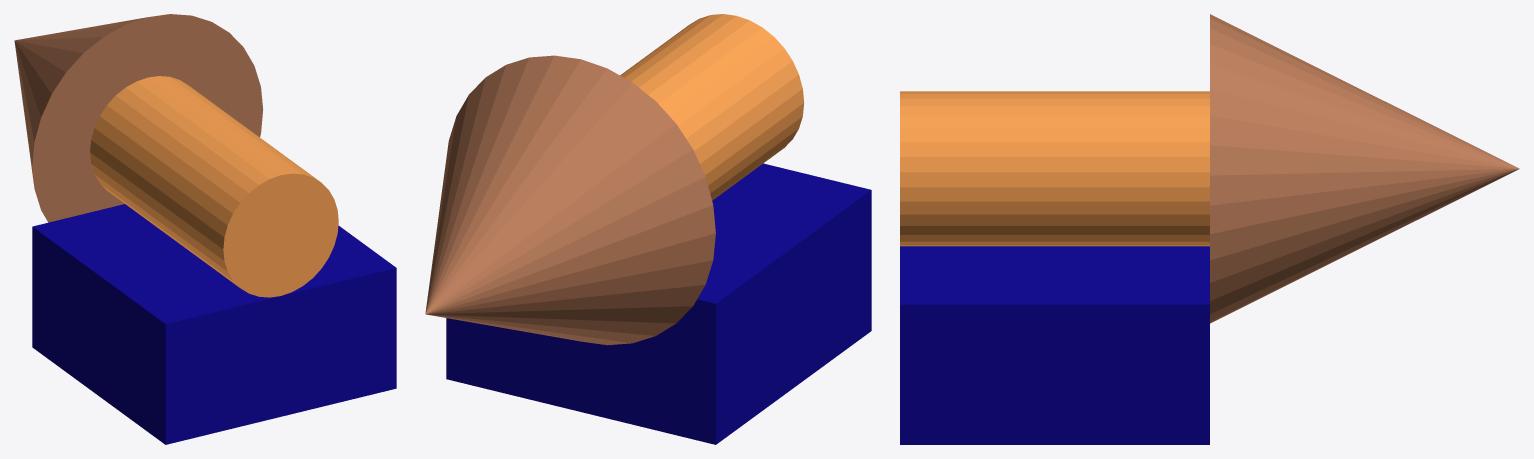
File: enemytypeD.obj
The picture shows the model from 3 angles, left to right: view 1: azimuth 30°, elevation 25°; view 2: azimuth 150°, elevation 25°; view 3: azimuth 270°, elevation 25°; orthographic projection. The views are drawn at different scales.
Parts seen in each view (by area): view 1: 立方體_立方體.009, 圓柱體_圓柱體.001, 圓錐體_圓錐體.003; view 2: 圓錐體_圓錐體.003, 立方體_立方體.009, 圓柱體_圓柱體.001; view 3: 立方體_立方體.009, 圓柱體_圓柱體.001, 圓錐體_圓錐體.003.
Part boxes in pixels (bbox=[...]): 立方體_立方體.009: bbox=[32, 204, 396, 444]; 圓柱體_圓柱體.001: bbox=[90, 76, 338, 297]; 圓錐體_圓錐體.003: bbox=[14, 14, 263, 222]; 圓錐體_圓錐體.003: bbox=[425, 55, 715, 345]; 立方體_立方體.009: bbox=[446, 163, 871, 444]; 圓柱體_圓柱體.001: bbox=[620, 14, 804, 200]; 立方體_立方體.009: bbox=[900, 246, 1209, 444]; 圓柱體_圓柱體.001: bbox=[900, 91, 1209, 246]; 圓錐體_圓錐體.003: bbox=[1210, 14, 1519, 323].
Size of the model in its own units: 8 by 10 by 16.
Materials: 3 (3 with a texture image).
